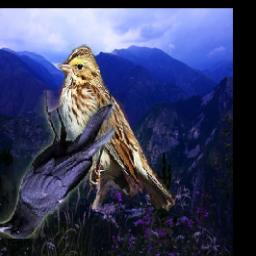Crow: (0, 91, 116, 240)
Sparrow: (58, 45, 175, 210)
